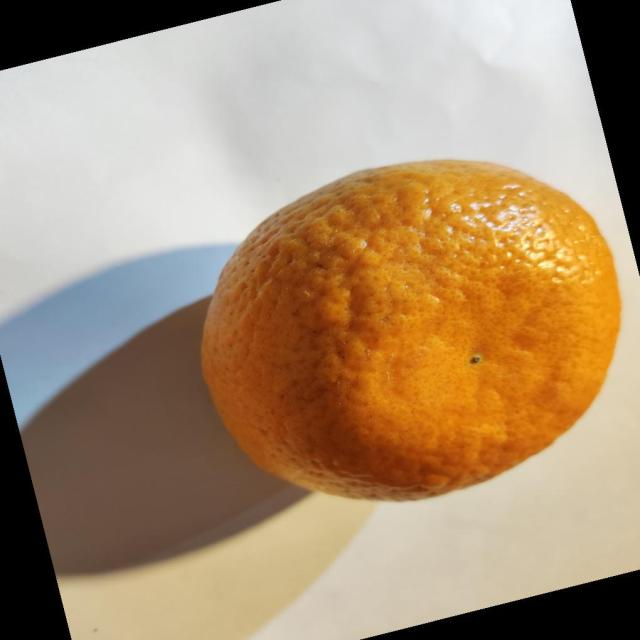fresh orange: (199, 157, 622, 503)
